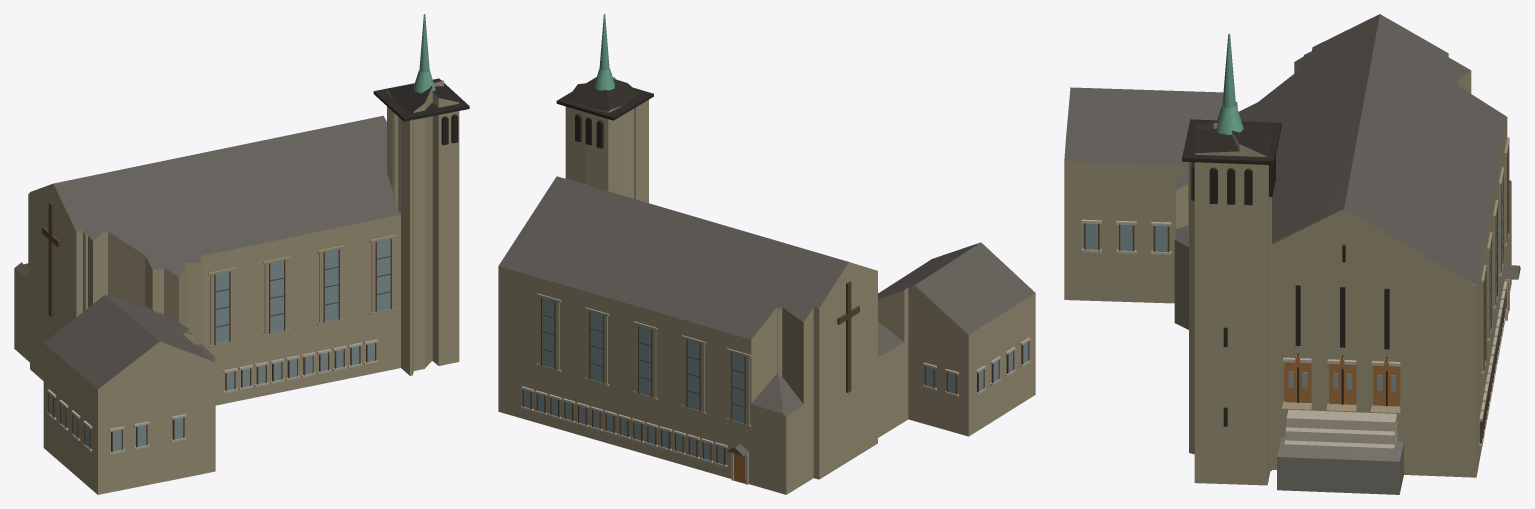
The model's file is maarten-lutherkerk.glb.
3 views of the same model, side by side, from view 1: azimuth 30°, elevation 25°; view 2: azimuth 150°, elevation 25°; view 3: azimuth 270°, elevation 25° (orthographic). The views are drawn at different scales.
Visible parts, largest first — view 1: maarten-lutherkerk; view 2: maarten-lutherkerk; view 3: maarten-lutherkerk.
Boxes of the visible parts, left/top/right/bottom form: maarten-lutherkerk: left=14, top=14, right=469, bottom=494; maarten-lutherkerk: left=498, top=14, right=1035, bottom=494; maarten-lutherkerk: left=1064, top=14, right=1520, bottom=494.
Bounding box in the file's own units: 34.21 × 26.2 × 24.86.
